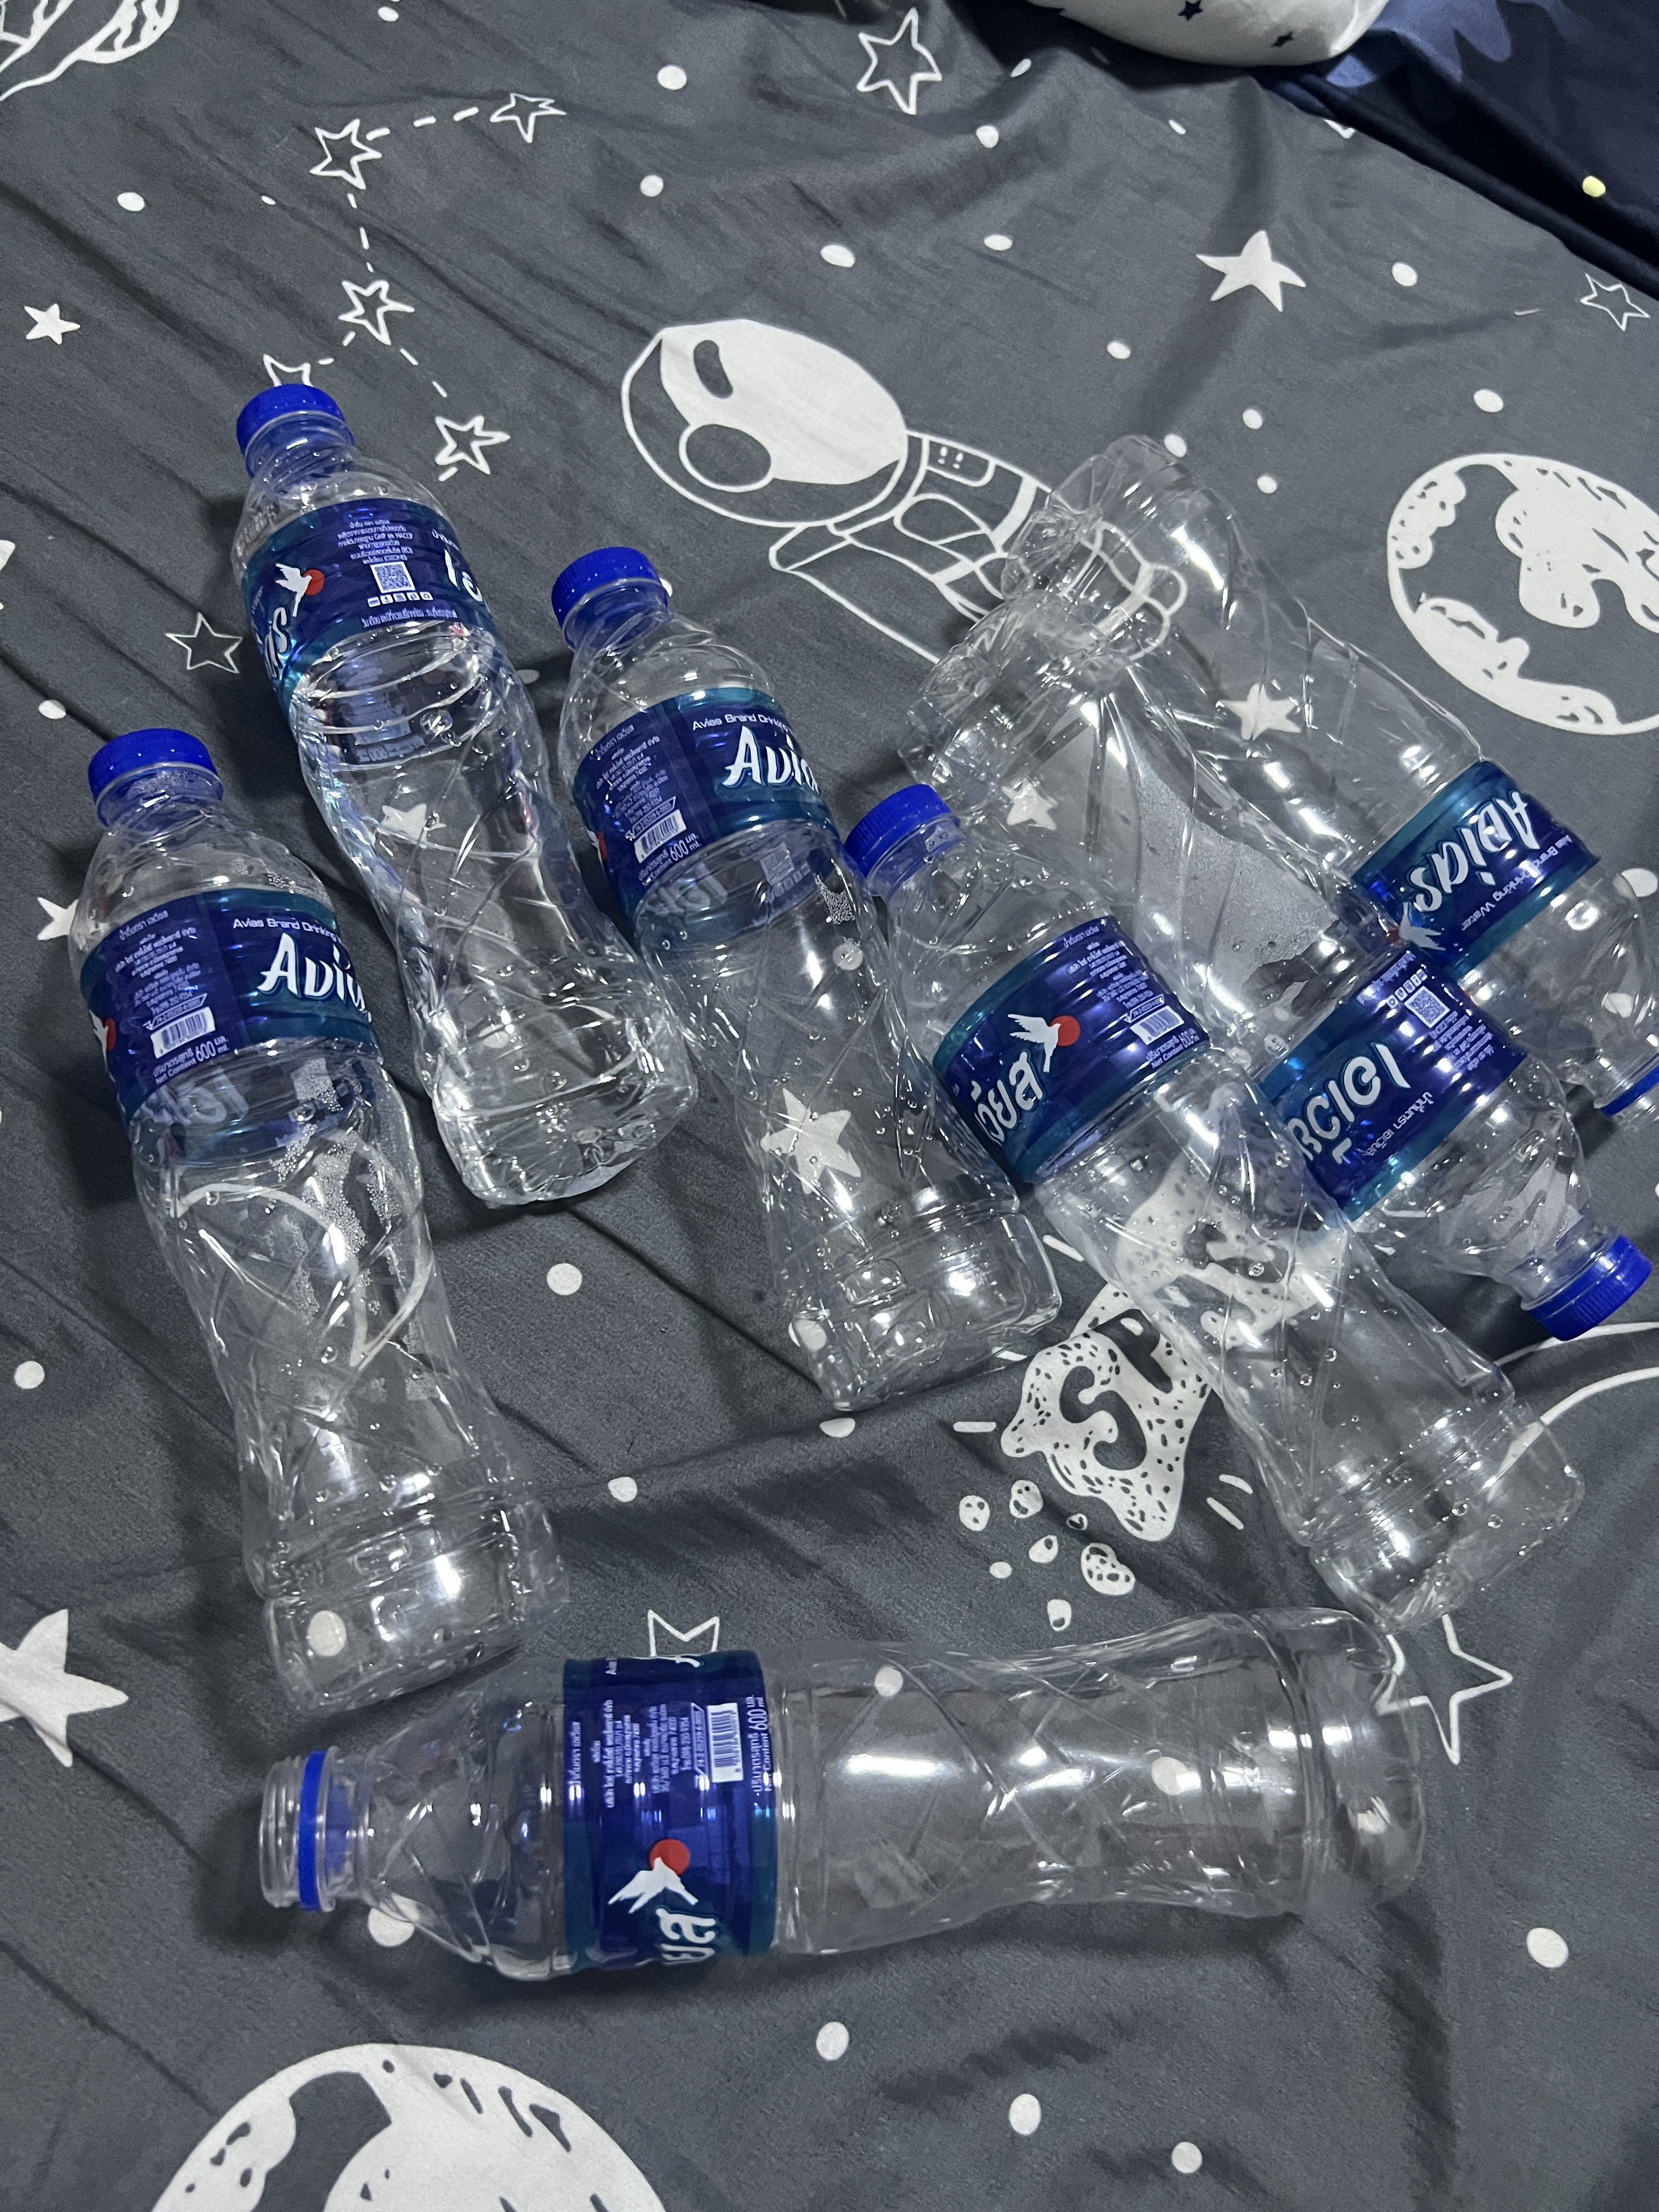plastic_bottle: (838, 772, 1612, 1648), (890, 566, 1654, 1357), (68, 718, 586, 1698), (990, 397, 1659, 1129), (544, 531, 1075, 1440), (200, 1639, 1457, 1987), (214, 374, 706, 1214)
